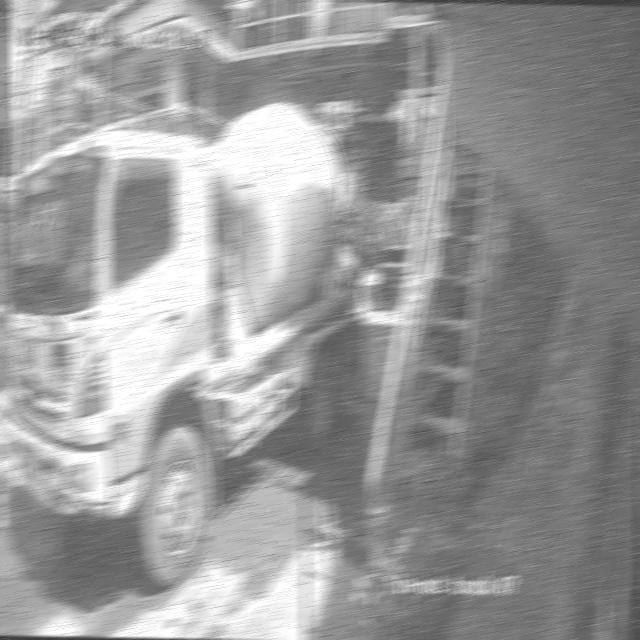cement_mixer_truck: (0, 103, 363, 582)
